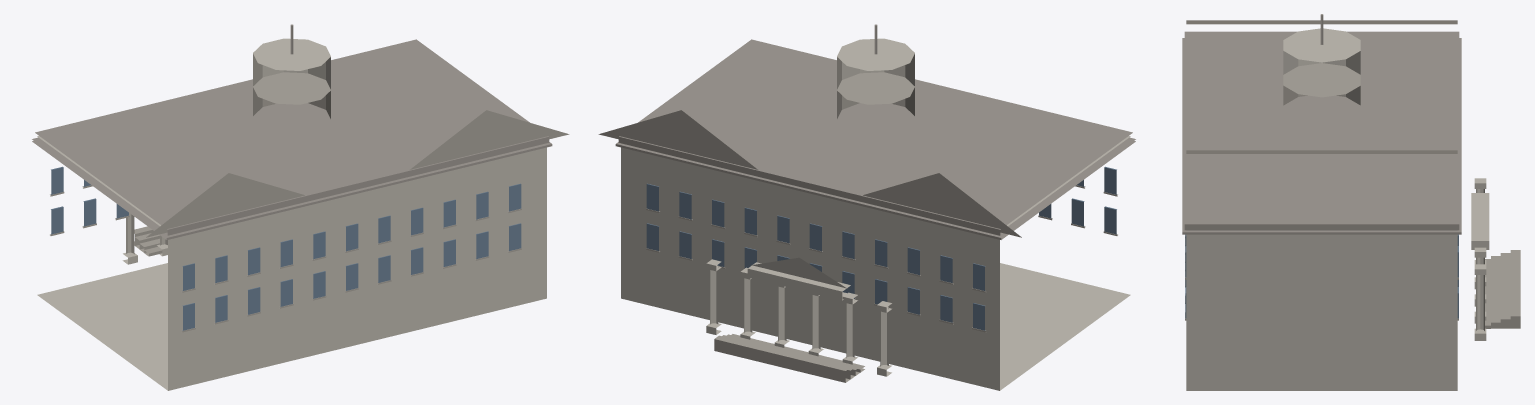
The model's file is university_hall.glb.
The picture shows the model from 3 angles, left to right: view 1: azimuth 30°, elevation 25°; view 2: azimuth 150°, elevation 25°; view 3: azimuth 270°, elevation 25°; orthographic projection. The views are drawn at different scales.
Parts seen in each view (by area): view 1: university_hall; view 2: university_hall; view 3: university_hall.
Part boxes in pixels (box(x1,y1,x2,y2)): university_hall: box(32, 24, 569, 390); university_hall: box(598, 24, 1135, 390); university_hall: box(1182, 14, 1520, 390).
Size of the model in its own units: 44.8 by 27.4 by 29.9.
